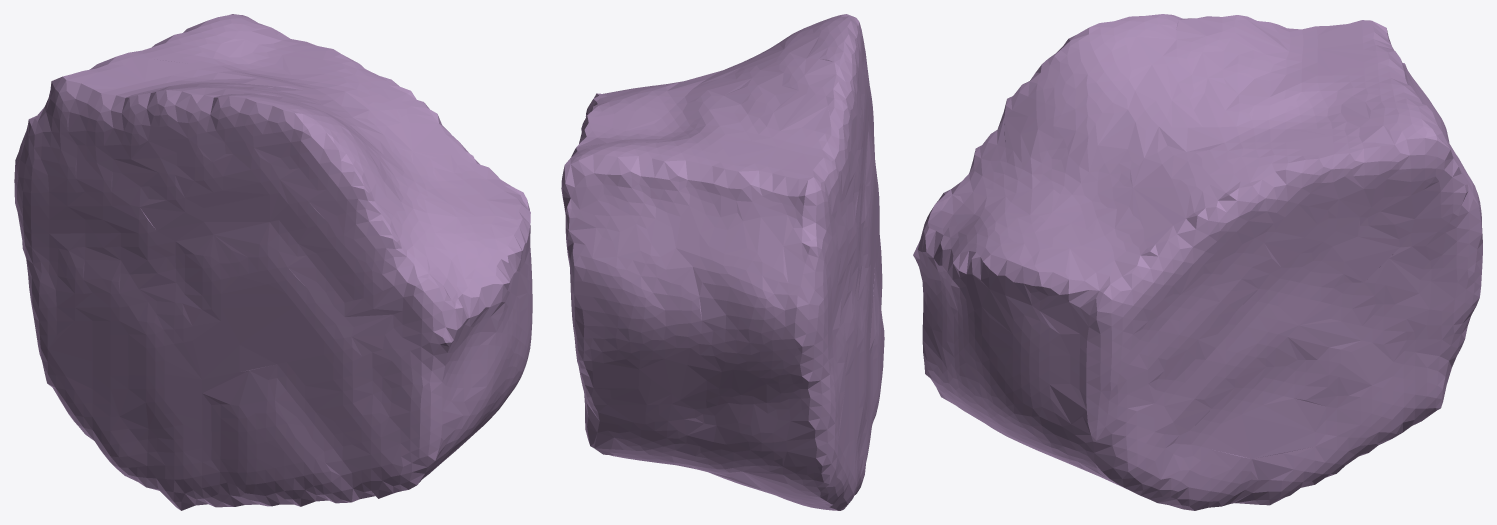
File: Model_10148_LH__Visual_area_5_(middle_temporal_area)_(V5).obj
The picture shows the model from 3 angles, left to right: view 1: azimuth 30°, elevation 25°; view 2: azimuth 150°, elevation 25°; view 3: azimuth 270°, elevation 25°; orthographic projection. The views are drawn at different scales.
Bounding box in the file's own units: 2.78 × 3.1 × 3.65.
